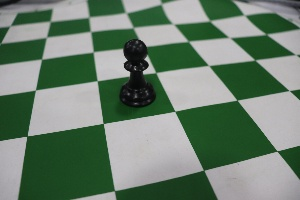black_pawn: (106, 27, 161, 113)
